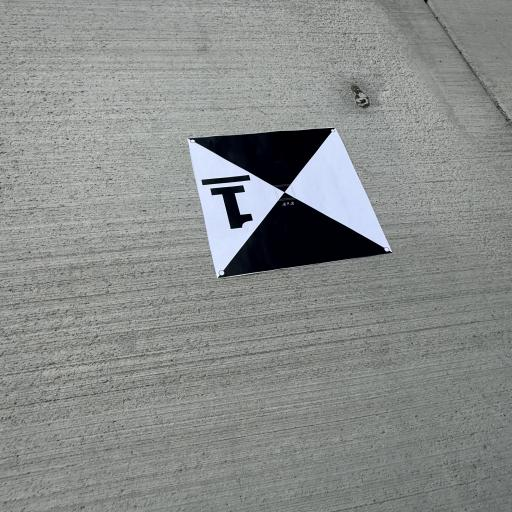target1: (178, 120, 396, 284)
